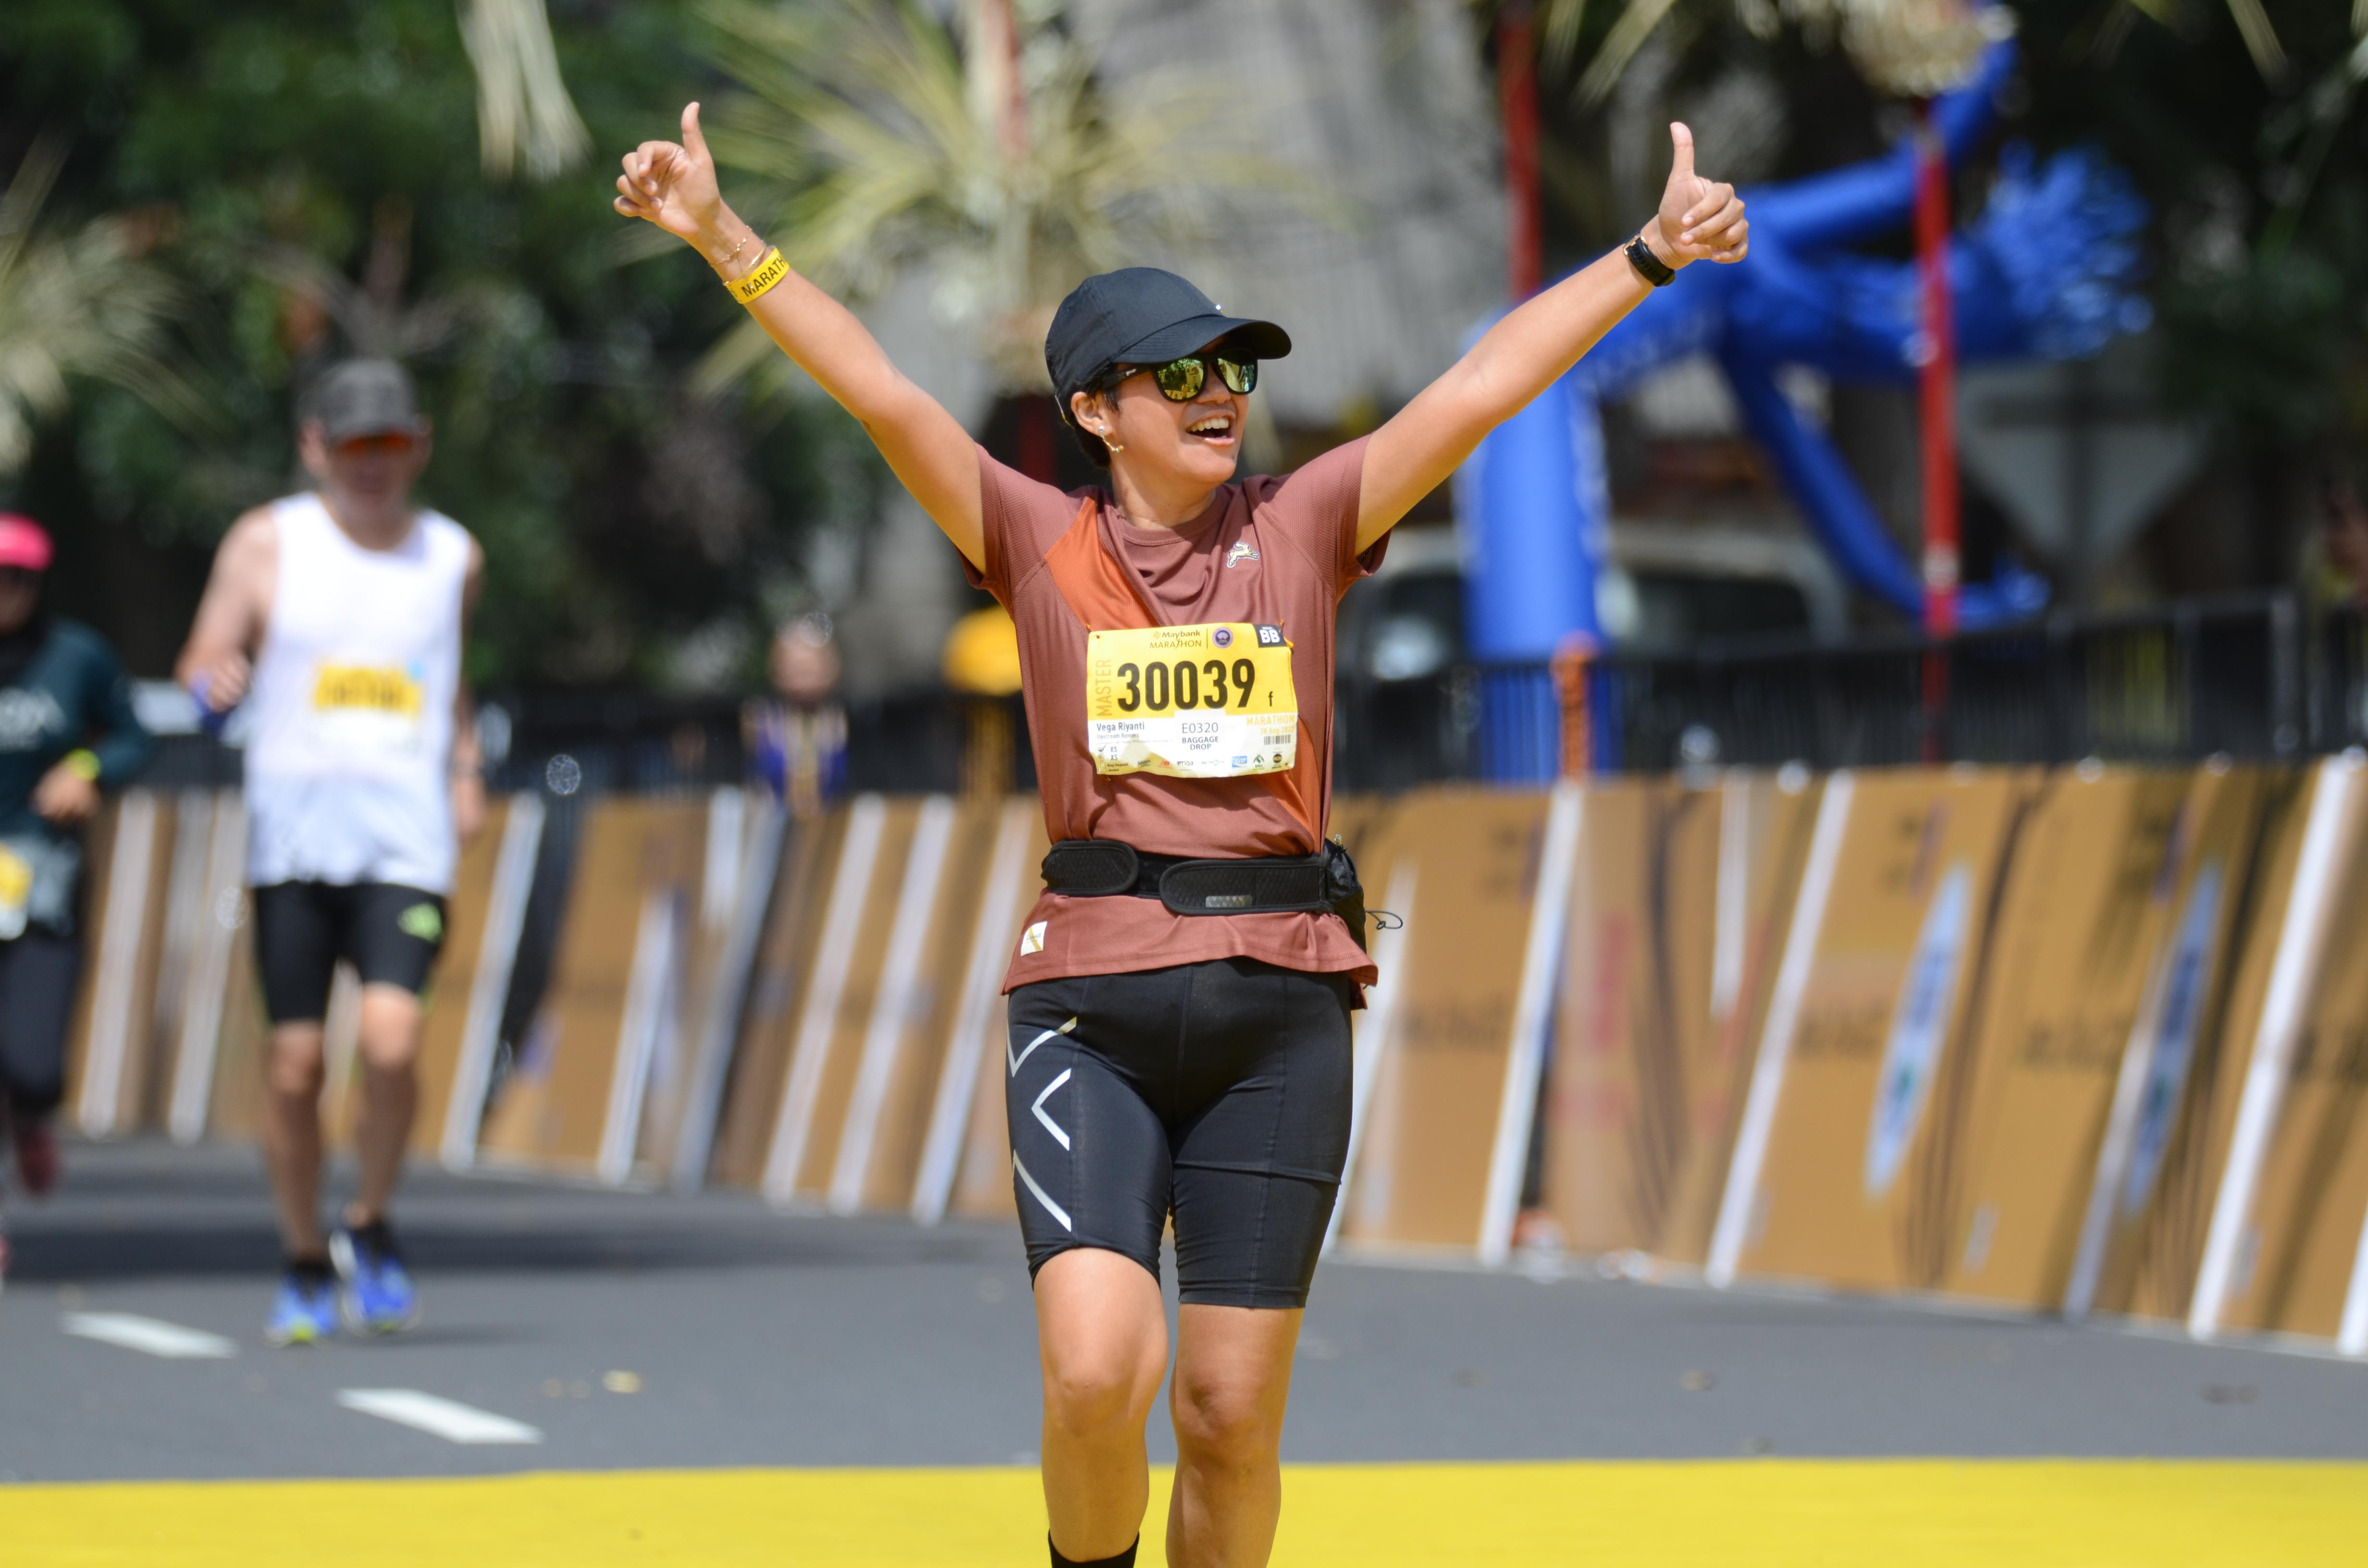bib: (1083, 625, 1300, 777), (308, 663, 427, 751)
